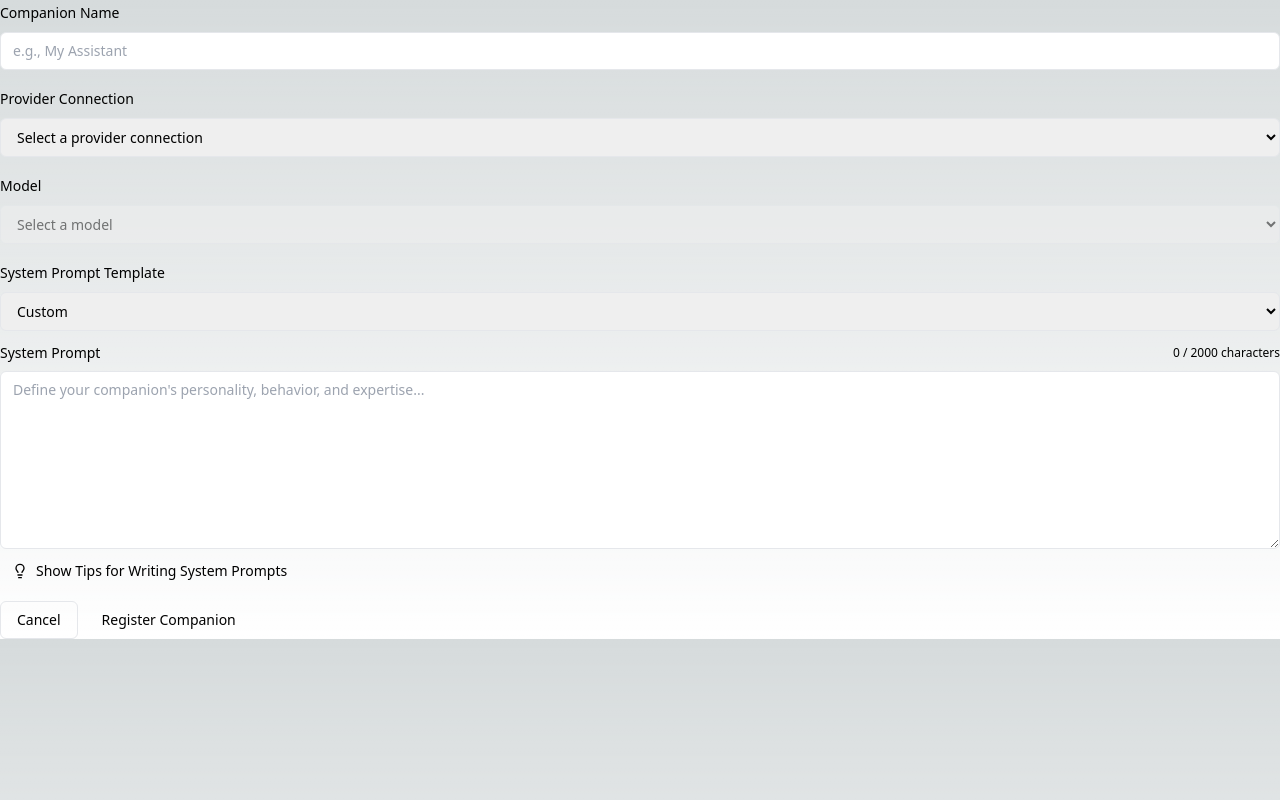
Scenario: Companion Registration Integration › CompanionRegistrationForm › should validate required fields on submit
Click the button "Register Companion". click: {"x": 169, "y": 620}
box: [86,601,252,639]
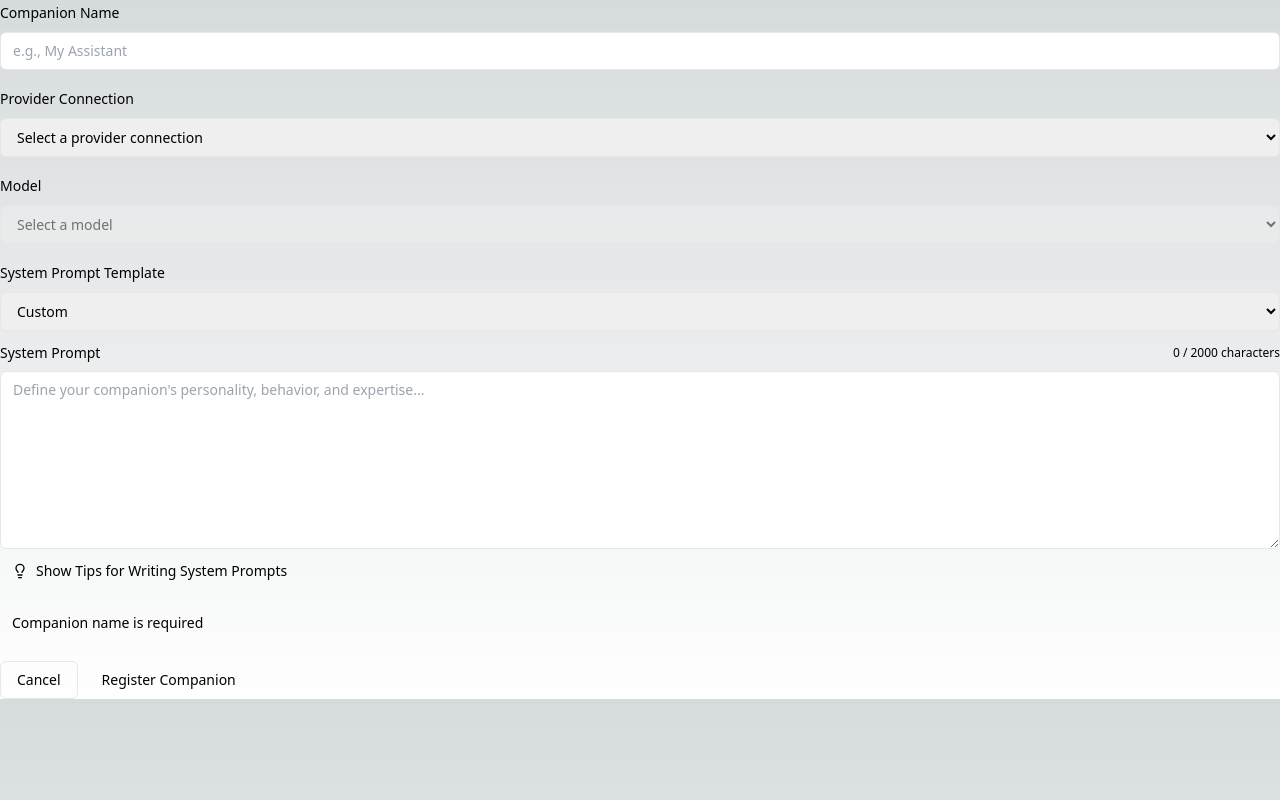
Result: the text "Companion name is required" is shown at [12,613,203,632]
